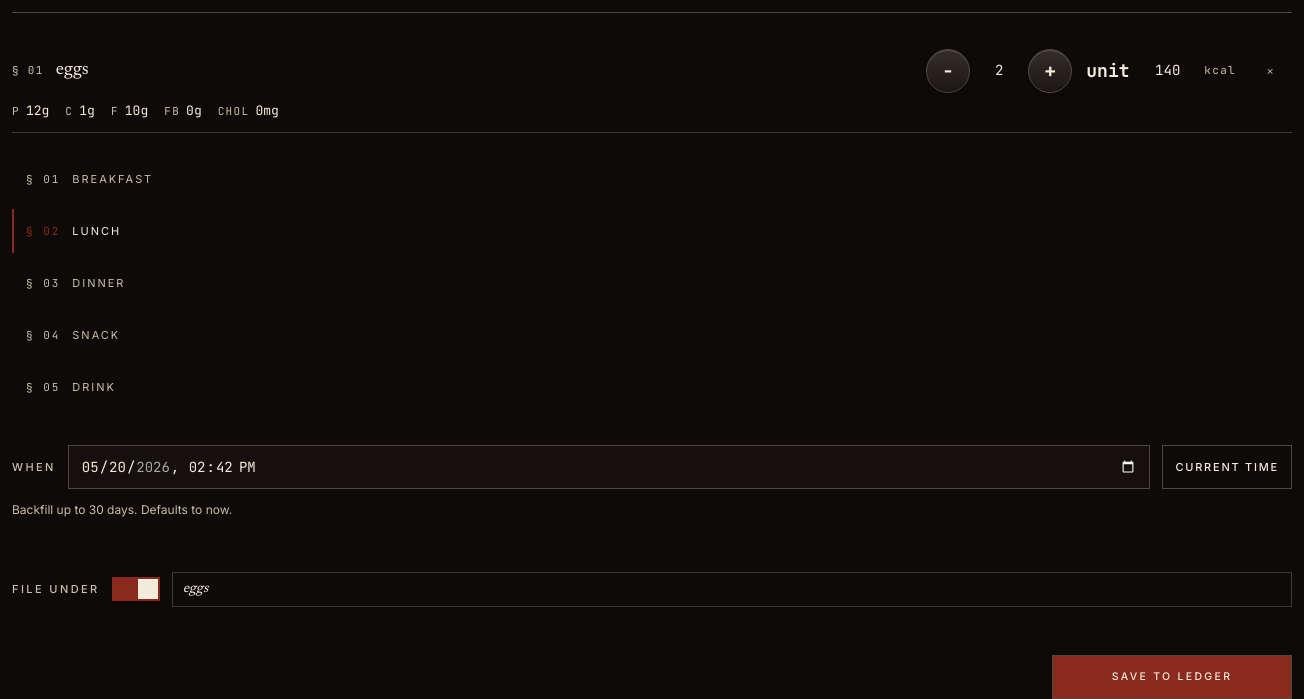
Test: <ConfirmationScreen /> › has no axe-core violations when save errors
The image size is (1304, 699).
(page scrolled)
Step 1. Click the button with test id "confirmation-save" → click(1172, 677), box [1052,655,1292,698]
(page scrolled)
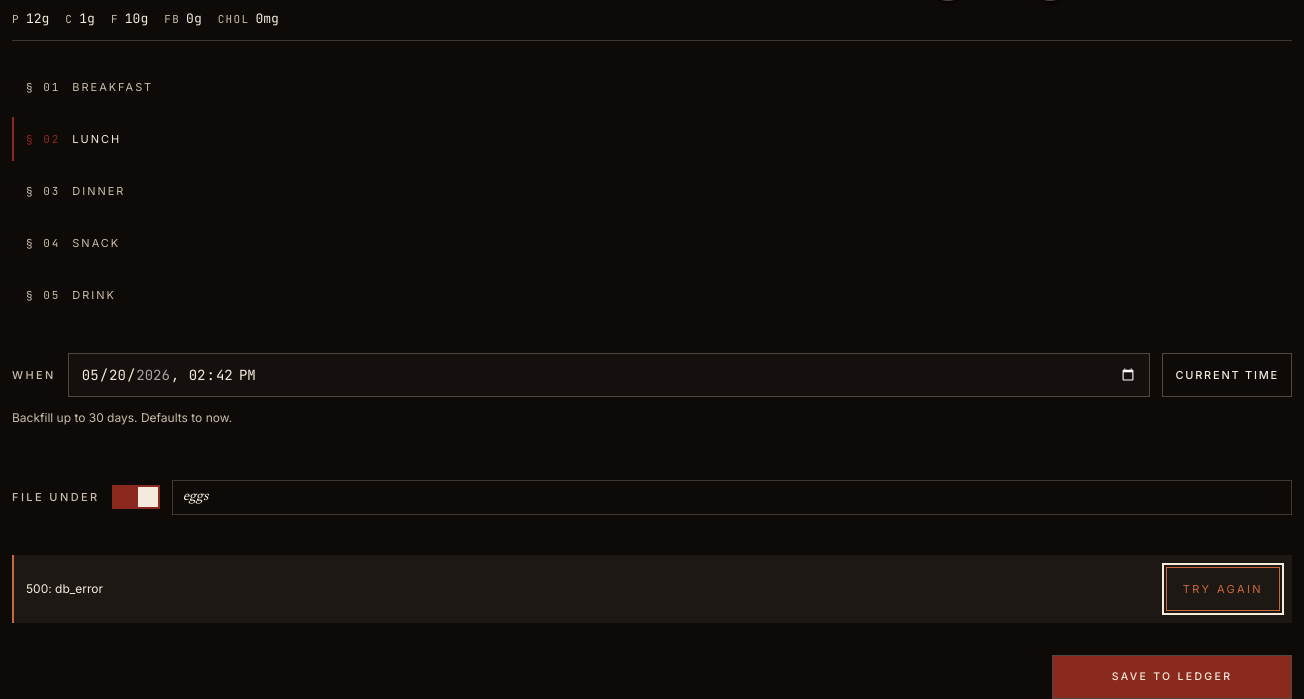
Result: the message "500: db_error TRY AGAIN" is shown at [12,555,1292,623]
